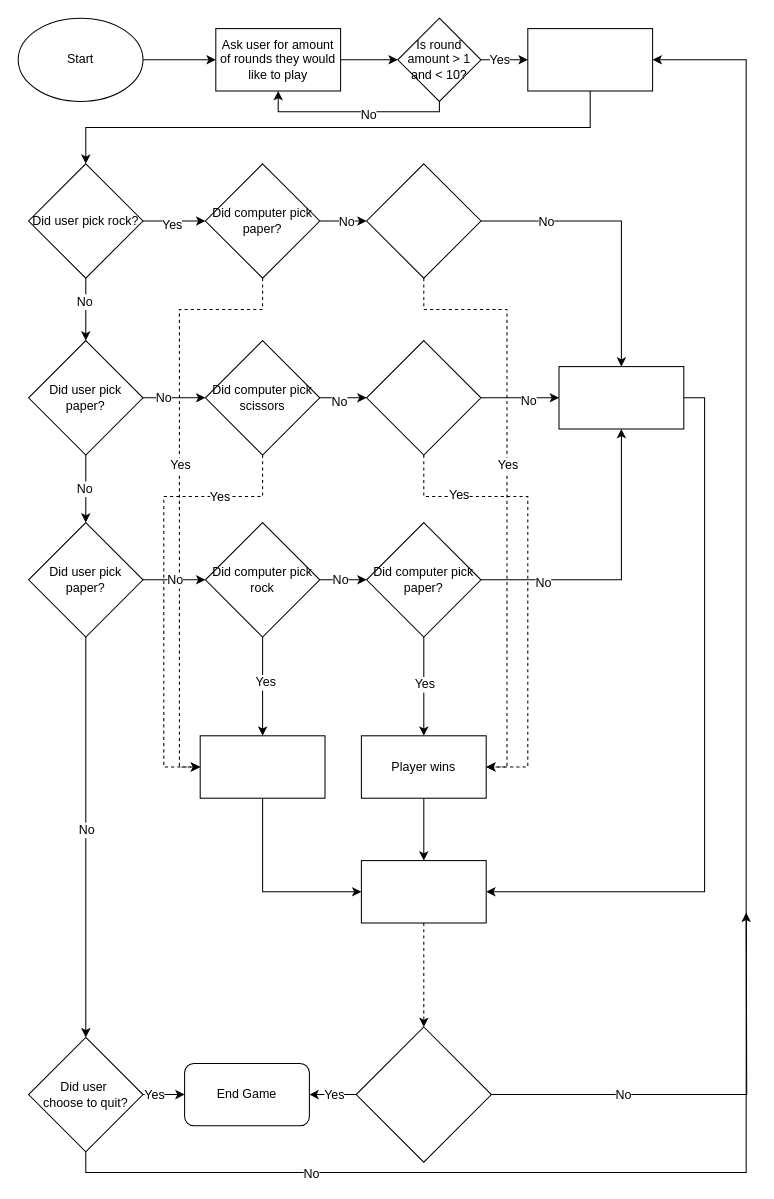
Image size: 774x1199. Some labels were removed from this diagram. Each missing label, with the centre of its shape:
Ask user for rock, paper, scissors, or to quit: (590,59)
Did computer pick rock?: (423,397)
Did computer pick scissors?: (423,220)
Is round count == amount of rounds desired?: (423,1094)
It's a tie!: (621,397)
Player loses: (262,766)
Round count ++: (423,891)
